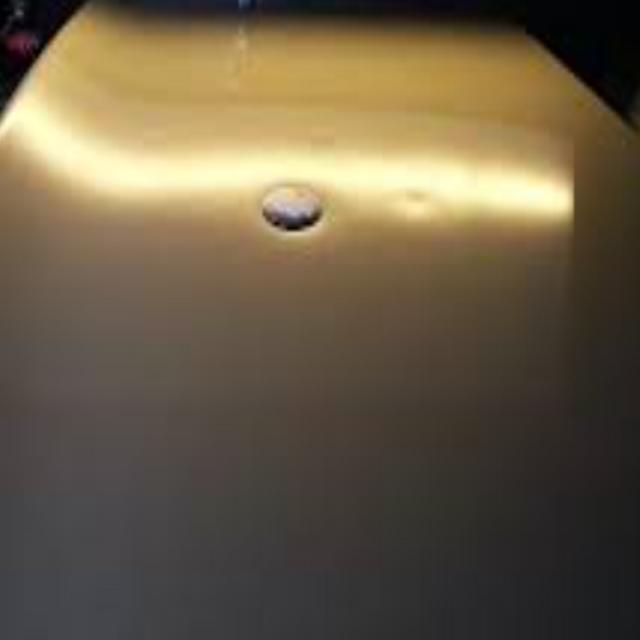dents: (254, 152, 358, 264), (394, 170, 441, 228)
